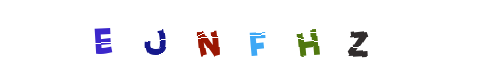E: (86, 0, 166, 80)
F: (205, 0, 285, 80)
H: (208, 0, 288, 80)
J: (168, 0, 248, 80)
N: (196, 0, 276, 80)
Z: (293, 0, 373, 80)
